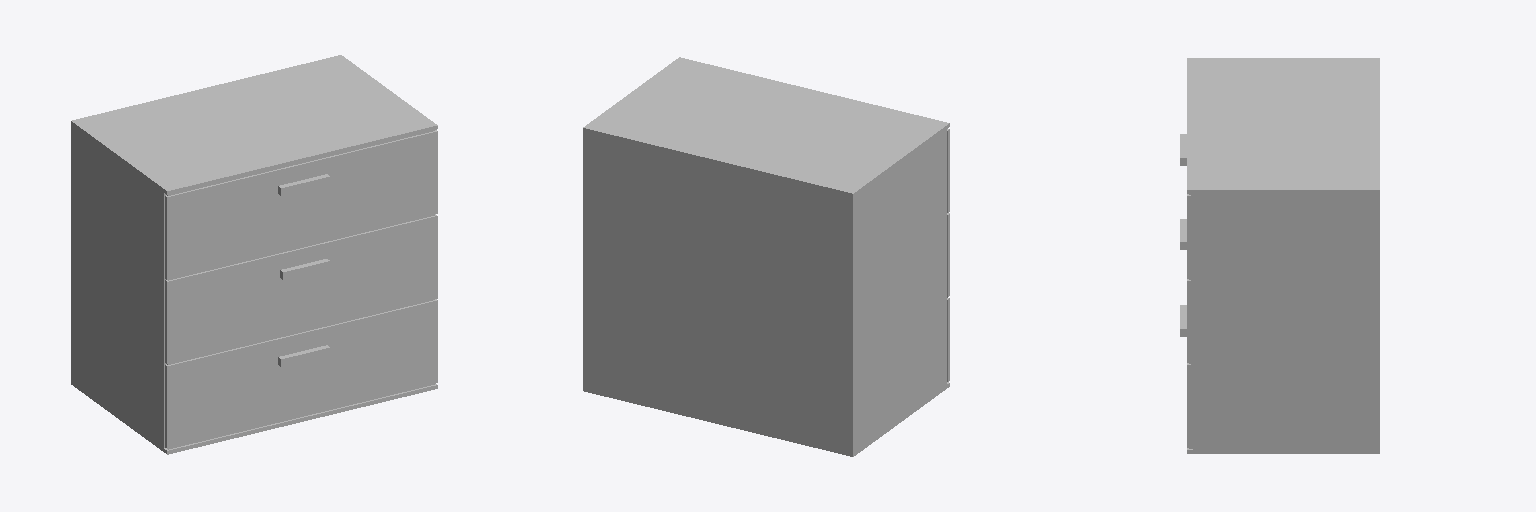
Rendered from tansu.obj.
The picture shows the model from 3 angles: view 1: azimuth 30°, elevation 25°; view 2: azimuth 150°, elevation 25°; view 3: azimuth 270°, elevation 25°; orthographic projection.
Parts seen in each view (by area): view 1: object 1; view 2: object 1; view 3: object 1.
Part boxes in pixels (x1,y1,x2,y2): object 1: (71,55,437,454); object 1: (583,57,949,456); object 1: (1180,58,1379,453).
Size of the model in its own units: 14.4 by 13.4 by 9.2.